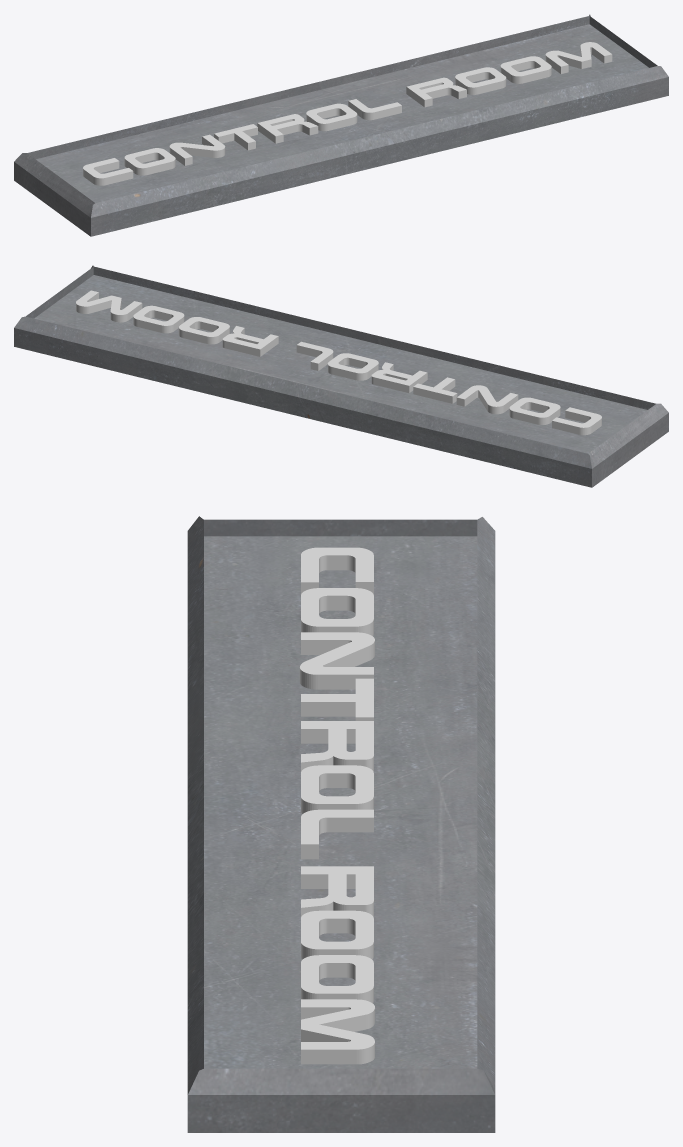
Rendered from ControlRoom_Sign.fbx.
The picture shows the model from 3 angles, top to bottom: view 1: azimuth 30°, elevation 25°; view 2: azimuth 150°, elevation 25°; view 3: azimuth 270°, elevation 25°; orthographic projection. The views are drawn at different scales.
Visible parts, largest first — view 1: Box001, TextPlus002; view 2: Box001, TextPlus002; view 3: Box001, TextPlus002.
Boxes of the visible parts, left/top/right/bottom form: Box001: left=14, top=14, right=668, bottom=236; TextPlus002: left=83, top=42, right=612, bottom=185; Box001: left=14, top=265, right=668, bottom=487; TextPlus002: left=76, top=290, right=601, bottom=435; Box001: left=187, top=516, right=495, bottom=1132; TextPlus002: left=299, top=547, right=374, bottom=1064.
Size of the model in its own units: 61.84 by 2.93 by 14.24.
1 material, 1 textured.
